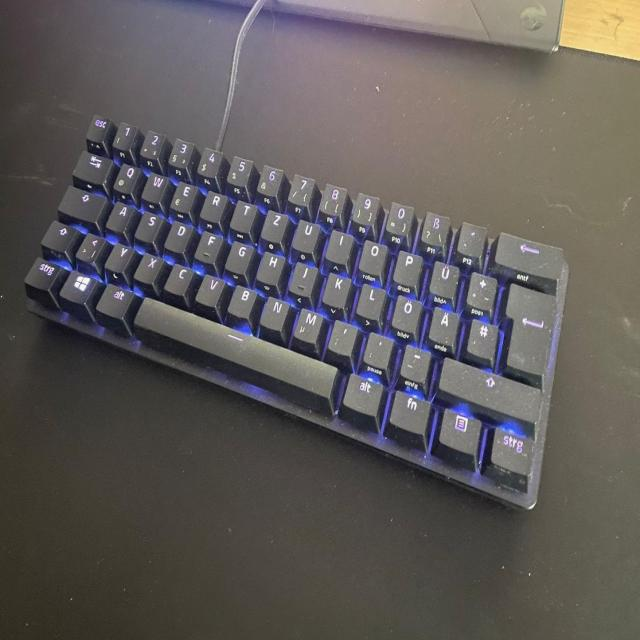0: (382, 199, 414, 238)
1: (111, 120, 137, 150)
2: (138, 127, 164, 159)
3: (166, 136, 194, 168)
4: (195, 145, 223, 177)
5: (225, 154, 255, 188)
6: (254, 162, 284, 196)
7: (286, 171, 314, 207)
8: (316, 181, 347, 219)
9: (348, 190, 380, 228)
a: (104, 201, 134, 233)
accent: (455, 219, 486, 259)
ae: (426, 307, 459, 347)
alt-left: (93, 282, 135, 320)
altgr-right: (337, 370, 385, 421)
b: (224, 283, 257, 319)
c: (162, 262, 194, 295)
caret: (86, 115, 110, 149)
comma: (324, 318, 358, 359)
d: (163, 221, 193, 253)
del: (490, 230, 565, 281)
e: (168, 180, 198, 212)
enter: (502, 279, 556, 378)
f: (192, 230, 222, 263)
g: (223, 241, 253, 275)
h: (255, 251, 285, 285)
hash: (463, 318, 499, 364)
i: (323, 228, 354, 264)
j: (287, 261, 317, 297)
k: (320, 272, 351, 310)
keyboard: (10, 104, 592, 524)
l: (353, 284, 385, 322)
less: (74, 231, 106, 262)
m: (290, 307, 324, 347)
minus: (397, 344, 430, 385)
n: (257, 295, 290, 333)
o: (356, 239, 388, 275)
oe: (388, 296, 422, 336)
p: (390, 249, 422, 287)
plus: (464, 269, 496, 311)
point: (360, 331, 393, 369)
q: (111, 162, 141, 194)
r: (198, 190, 228, 222)
s: (133, 211, 163, 244)
shift-left: (39, 219, 79, 253)
shift-lock: (56, 185, 106, 223)
shift-right: (436, 356, 540, 423)
space: (129, 295, 337, 409)
ss: (418, 209, 450, 247)
strg-left: (23, 257, 63, 289)
strg-right: (489, 426, 533, 476)
t: (228, 199, 257, 232)
tab: (71, 150, 112, 184)
u: (291, 218, 321, 253)
ue: (427, 258, 459, 300)
v: (193, 273, 225, 308)
w: (140, 172, 168, 204)
x: (132, 251, 164, 285)
y: (102, 242, 134, 274)
z: (259, 209, 289, 241)
